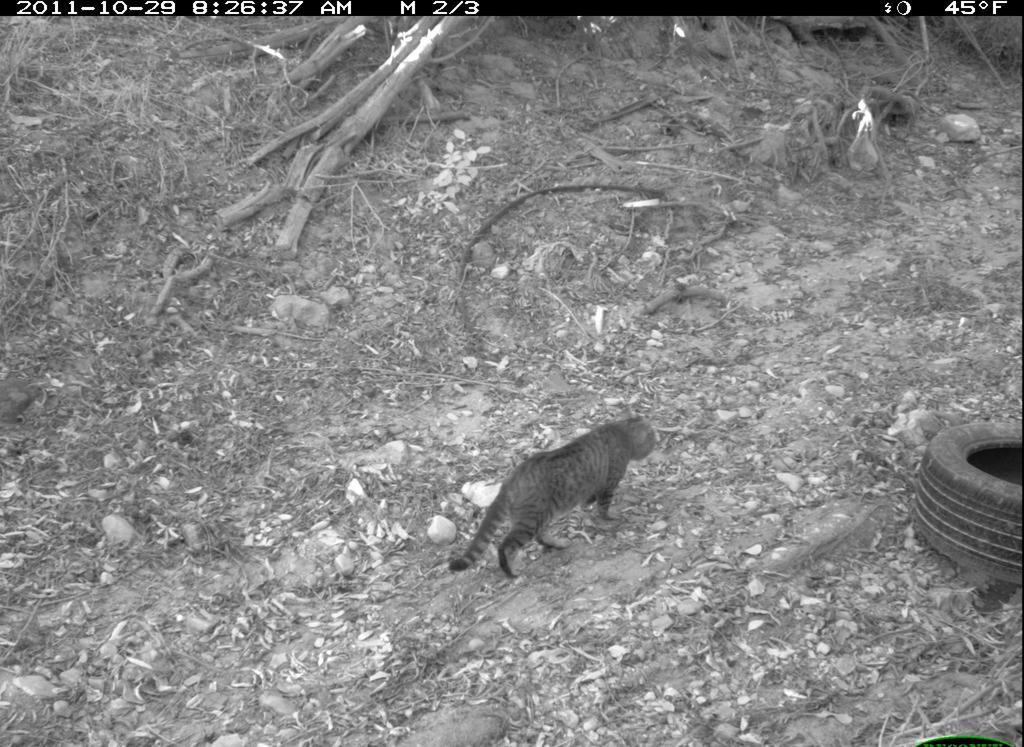cat: (440, 406, 674, 588)
